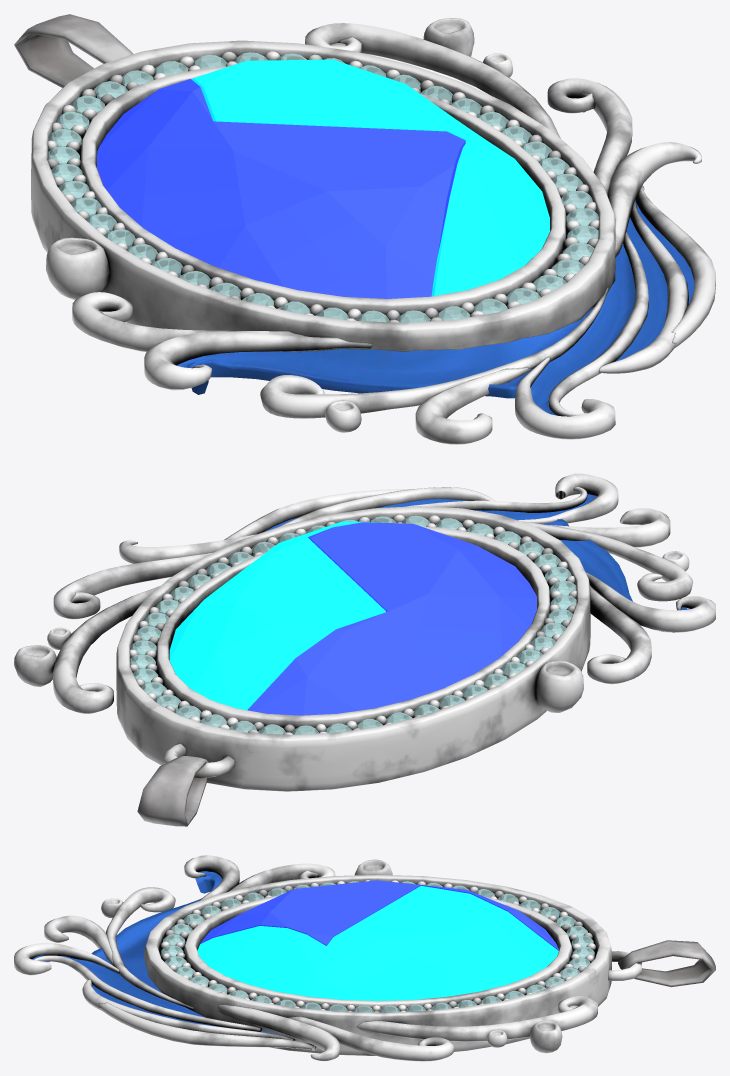
The model's file is sapphire_pendant_with_inner_fracture.glb.
The picture shows the model from 3 angles, top to bottom: view 1: azimuth 30°, elevation 25°; view 2: azimuth 150°, elevation 25°; view 3: azimuth 270°, elevation 25°; orthographic projection. The views are drawn at different scales.
Visible parts, largest first — view 1: Coulomb .002_Silver.001_0, Coulomb .002_Sapphire dispersia_0, Coulomb .002_Sapphire dispersia. light_0, Coulomb .002_Blue metal_0, Coulomb .002_Diamond dispersia_0; view 2: Coulomb .002_Silver.001_0, Coulomb .002_Sapphire dispersia_0, Coulomb .002_Sapphire dispersia. light_0, Coulomb .002_Diamond dispersia_0, Coulomb .002_Blue metal_0; view 3: Coulomb .002_Silver.001_0, Coulomb .002_Sapphire dispersia. light_0, Coulomb .002_Sapphire dispersia_0, Coulomb .002_Diamond dispersia_0, Coulomb .002_Blue metal_0.
Boxes of the visible parts, <box> form: Coulomb .002_Silver.001_0: <box>14,14,715,444</box>; Coulomb .002_Sapphire dispersia_0: <box>97,79,465,298</box>; Coulomb .002_Sapphire dispersia. light_0: <box>192,59,549,296</box>; Coulomb .002_Blue metal_0: <box>177,199,694,415</box>; Coulomb .002_Diamond dispersia_0: <box>48,52,598,322</box>; Coulomb .002_Silver.001_0: <box>14,473,715,826</box>; Coulomb .002_Sapphire dispersia_0: <box>247,522,536,715</box>; Coulomb .002_Sapphire dispersia. light_0: <box>169,521,385,710</box>; Coulomb .002_Diamond dispersia_0: <box>130,515,576,734</box>; Coulomb .002_Blue metal_0: <box>265,493,690,632</box>; Coulomb .002_Silver.001_0: <box>14,855,715,1061</box>; Coulomb .002_Sapphire dispersia. light_0: <box>197,885,558,1000</box>; Coulomb .002_Sapphire dispersia_0: <box>200,880,558,950</box>; Coulomb .002_Diamond dispersia_0: <box>161,881,594,1012</box>; Coulomb .002_Blue metal_0: <box>32,871,280,1035</box>.
Size of the model in its own units: 1.23 by 0.3303 by 1.85.
Materials: 5 (2 with a texture image).
